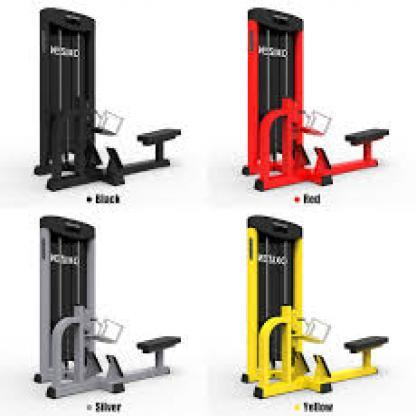Seated Cable Rows: (216, 1, 397, 203), (23, 213, 194, 416), (231, 212, 395, 416), (30, 3, 186, 215)
